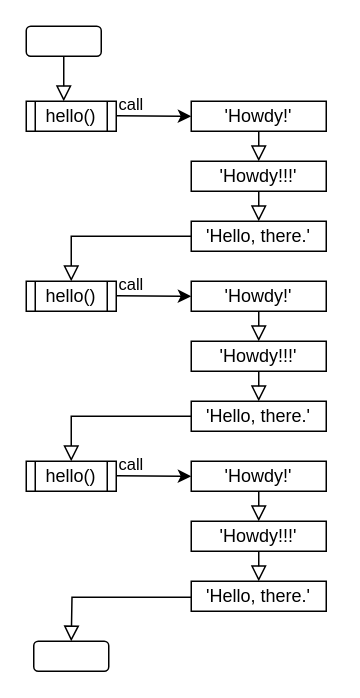
The diagram is 360 pixels wide and 698 high, and some of its shapes have lost their labels. Here are the shapes that lost their labels. From the top down, the box of each, then its label:
(25, 25, 101, 56): Start
(32, 640, 109, 671): End
